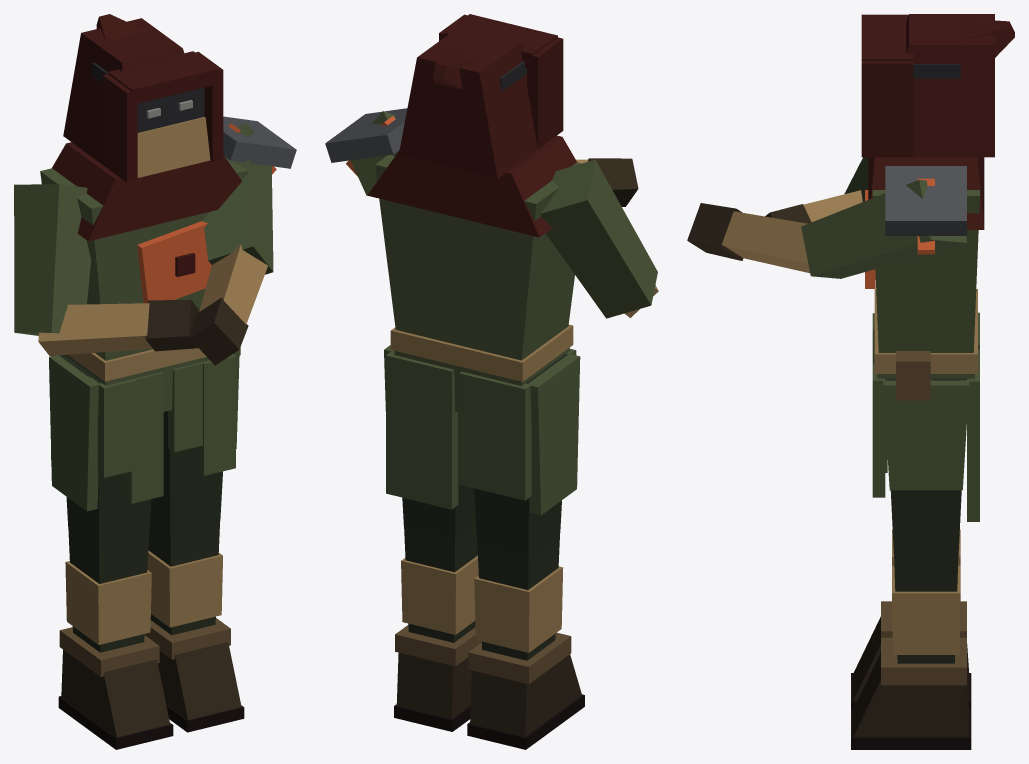
The model's file is scavenger.glb.
3 views of the same model, side by side, from view 1: azimuth 30°, elevation 25°; view 2: azimuth 150°, elevation 25°; view 3: azimuth 270°, elevation 25° (orthographic). The views are drawn at different scales.
Parts seen in each view (by area): view 1: torso, head, leg_r_lower, leg_l_lower, coat_flap_r, arm_r, arm_r_lower, coat_flap_l, arm_l_lower, arm_l, leg_l, leg_r (+1 smaller); view 2: torso, head, leg_r_lower, coat_flap_r, leg_l_lower, arm_r, coat_flap_l, leg_r, pauldron_l, leg_l, arm_l_lower, arm_l; view 3: head, leg_l_lower, torso, coat_flap_l, arm_l, pauldron_l, arm_l_lower, leg_l, leg_r_lower, arm_r_lower, arm_r.
Part boxes in pixels (x1=…): torso: x1=40, y1=142, x2=248, y2=411; head: x1=63, y1=14, x2=223, y2=182; leg_r_lower: x1=58, y1=529, x2=173, y2=749; leg_l_lower: x1=144, y1=519, x2=244, y2=732; coat_flap_r: x1=49, y1=355, x2=163, y2=511; arm_r: x1=14, y1=184, x2=91, y2=335; arm_r_lower: x1=38, y1=299, x2=199, y2=355; coat_flap_l: x1=168, y1=350, x2=239, y2=475; arm_l_lower: x1=189, y1=244, x2=267, y2=365; arm_l: x1=203, y1=123, x2=273, y2=274; leg_l: x1=150, y1=411, x2=222, y2=533; leg_r: x1=59, y1=355, x2=151, y2=551; torso: x1=367, y1=135, x2=581, y2=412; head: x1=398, y1=14, x2=563, y2=178; leg_r_lower: x1=467, y1=533, x2=584, y2=749; coat_flap_r: x1=459, y1=348, x2=580, y2=515; leg_l_lower: x1=394, y1=523, x2=481, y2=731; arm_r: x1=540, y1=159, x2=657, y2=318; coat_flap_l: x1=384, y1=345, x2=458, y2=509; leg_r: x1=474, y1=354, x2=567, y2=556; pauldron_l: x1=325, y1=108, x2=407, y2=176; leg_l: x1=402, y1=412, x2=475, y2=538; arm_l_lower: x1=576, y1=158, x2=638, y2=206; arm_l: x1=350, y1=111, x2=399, y2=195; head: x1=861, y1=14, x2=1014, y2=157; leg_l_lower: x1=851, y1=557, x2=971, y2=749; torso: x1=865, y1=157, x2=984, y2=400; coat_flap_l: x1=872, y1=349, x2=979, y2=521; arm_l: x1=801, y1=179, x2=967, y2=278; pauldron_l: x1=885, y1=166, x2=966, y2=254; arm_l_lower: x1=687, y1=203, x2=809, y2=273; leg_l: x1=885, y1=378, x2=966, y2=557; leg_r_lower: x1=851, y1=529, x2=971, y2=709; arm_r_lower: x1=765, y1=190, x2=862, y2=223; arm_r: x1=844, y1=157, x2=868, y2=201.
Size of the model in its own units: 0.7865 by 1.78 by 0.7623.
